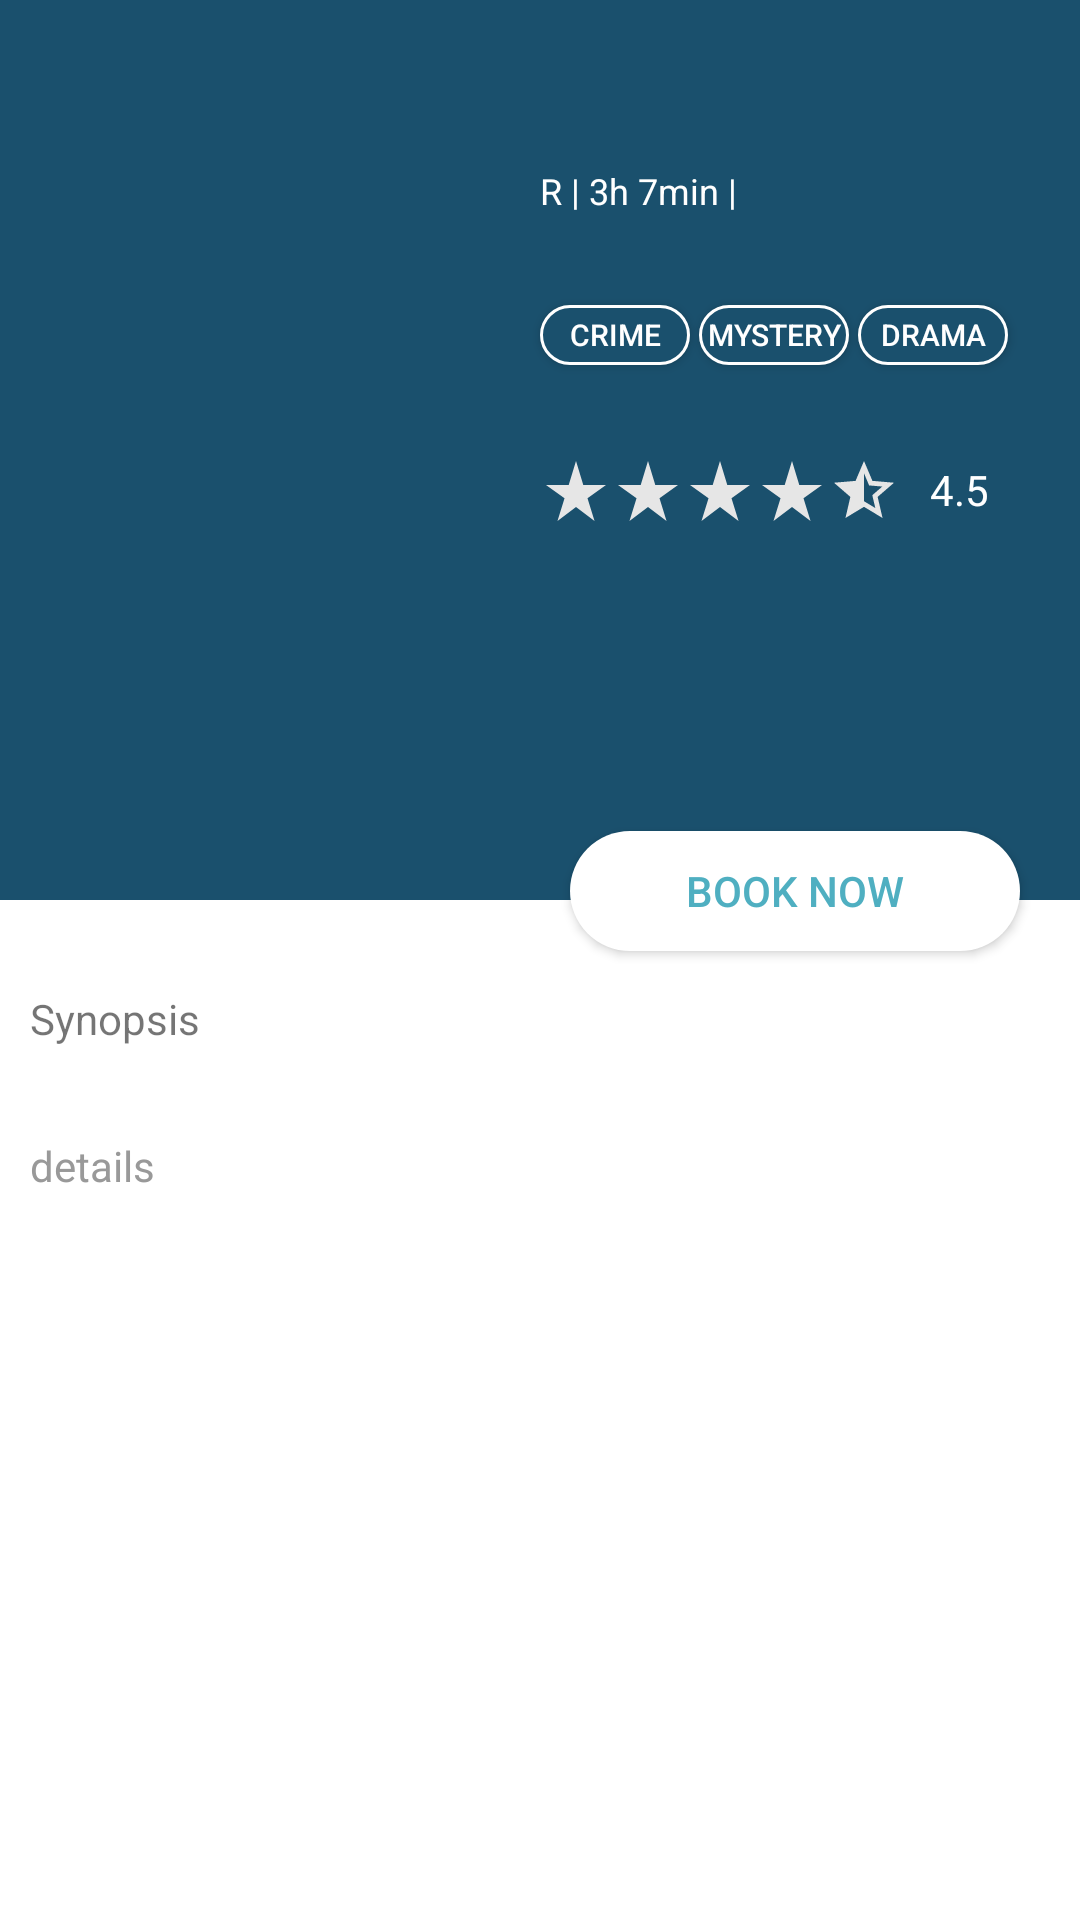

Icon bounding boxes for this 1080*1920 phone screenshot, format (x1, y1, x2, y2):
halt star: (834, 461, 894, 518)
star: (546, 461, 606, 521), (618, 461, 678, 521), (690, 461, 750, 521), (762, 461, 822, 521)
